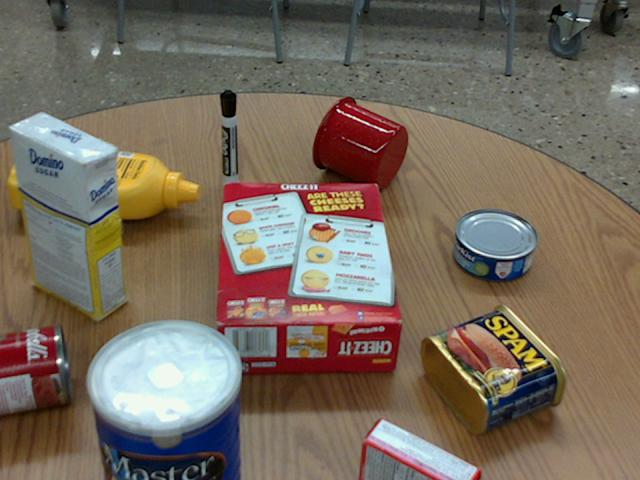cracker_box: (215, 184, 401, 370)
gelatin_box: (358, 417, 481, 479)
large_marker: (219, 90, 237, 187)
master_chef_can: (84, 319, 237, 479)
mug: (312, 96, 408, 189)
mustard_bottle: (9, 143, 198, 218)
potted_meat_can: (422, 304, 566, 434)
sugar_box: (9, 112, 123, 320)
tomato_soup_can: (0, 322, 71, 412)
tuna_fish_can: (453, 208, 537, 280)
